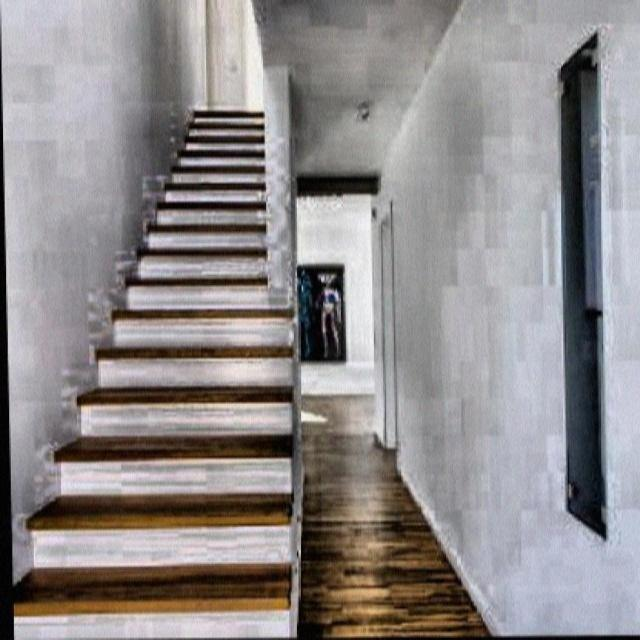stair: (68, 106, 289, 612)
